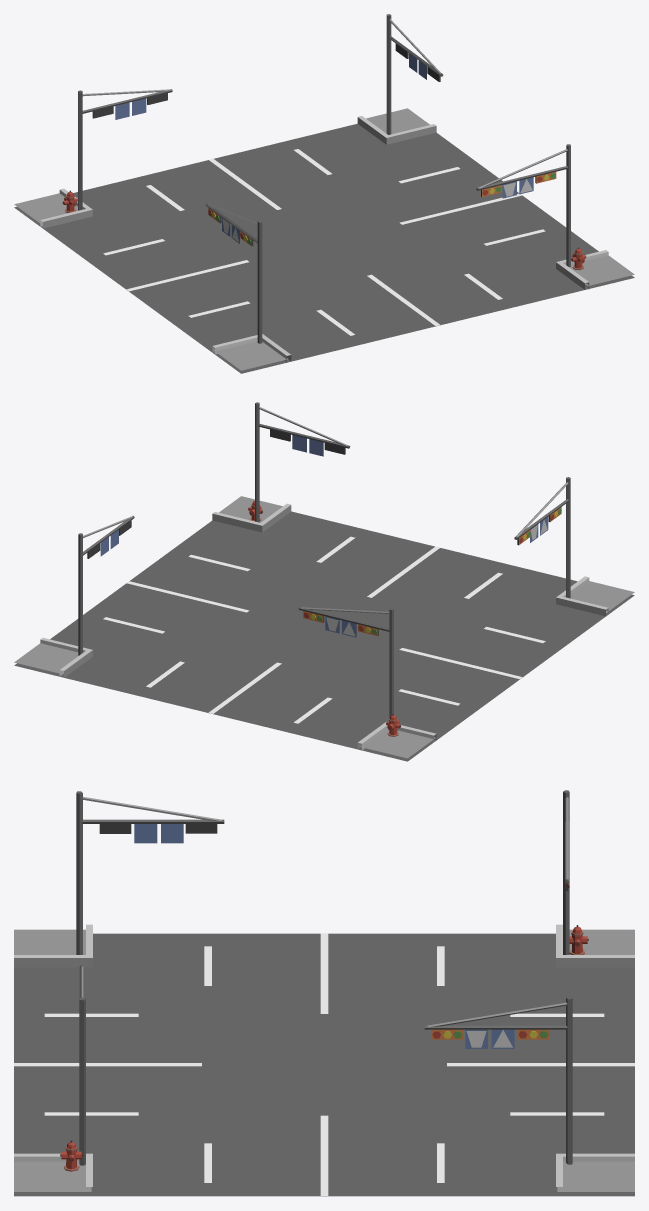
File: road_tile_2x2_004.fbx
3 renders of one model, top to bottom at view 1: azimuth 30°, elevation 25°; view 2: azimuth 150°, elevation 25°; view 3: azimuth 270°, elevation 25°, orthographic. The views are drawn at different scales.
Visible parts, largest first — view 1: road_tile_2x2_004; view 2: road_tile_2x2_004; view 3: road_tile_2x2_004.
Part boxes in pixels (x1,y1,x2,y2): road_tile_2x2_004: [14, 14, 634, 373]; road_tile_2x2_004: [14, 402, 634, 761]; road_tile_2x2_004: [14, 790, 634, 1196].
Bounding box in the file's own units: 1600 × 484 × 1600.
